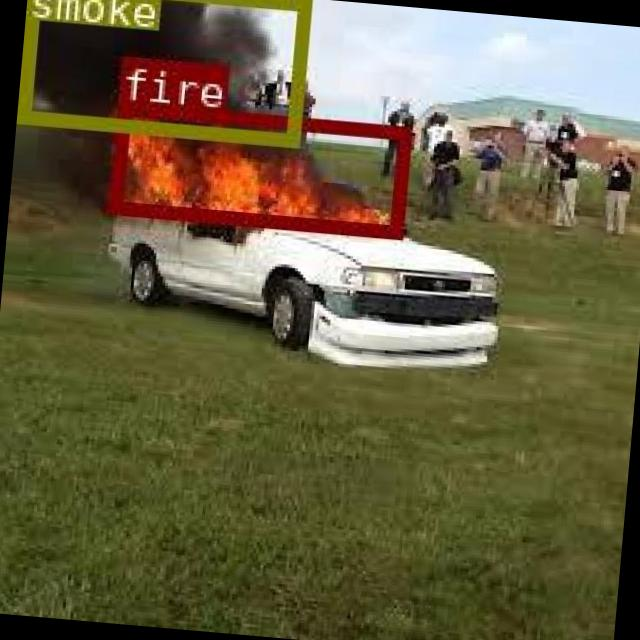fire: (106, 100, 408, 236)
smoke: (16, 0, 307, 145)
